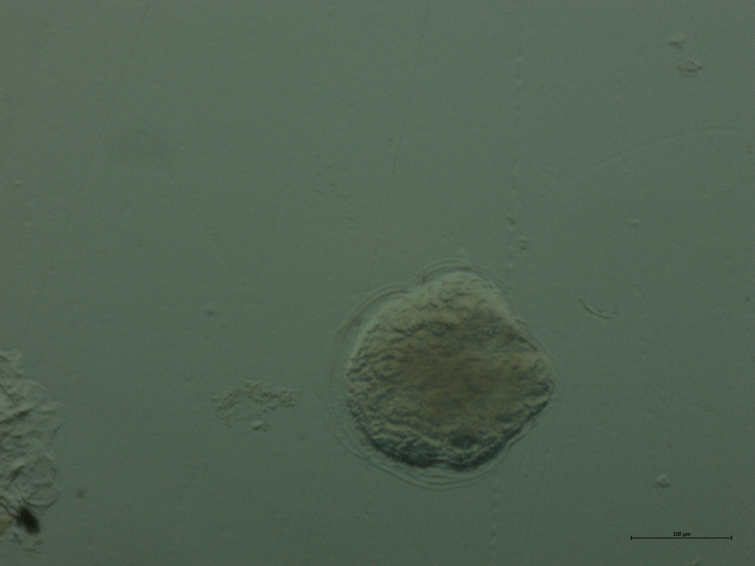oyster: (322, 255, 574, 506)
